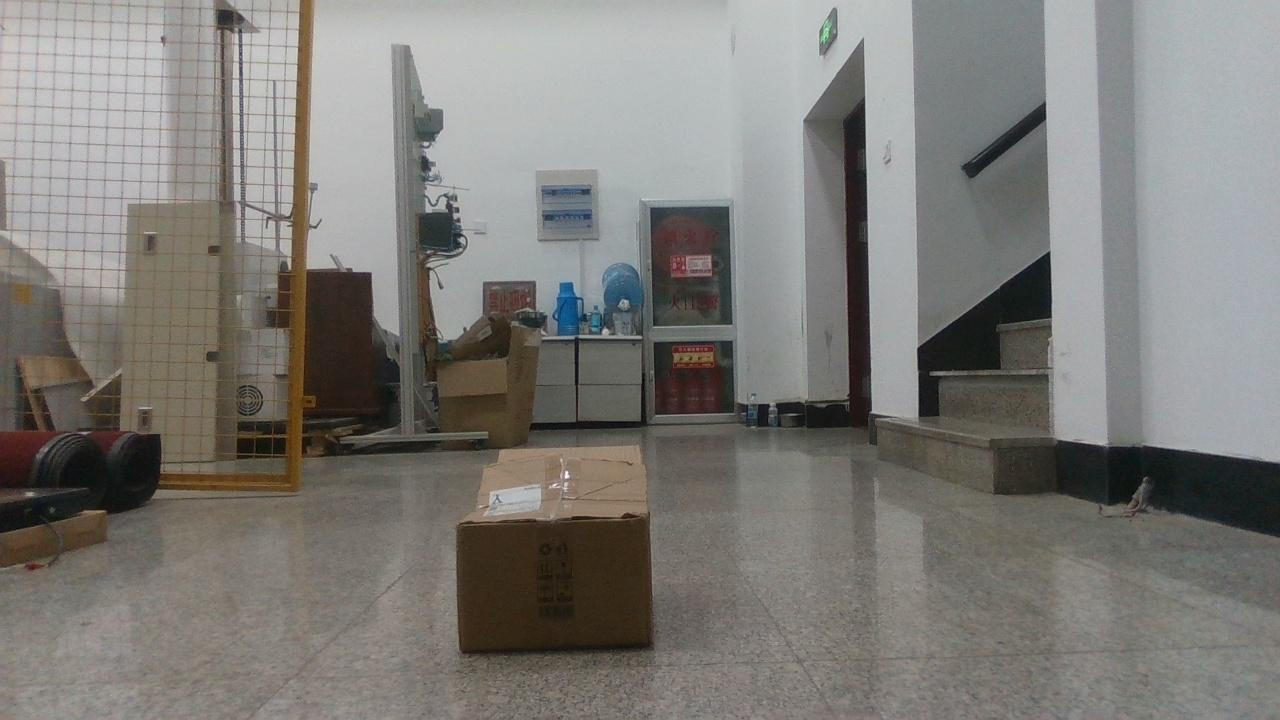box: (458, 445, 652, 652)
